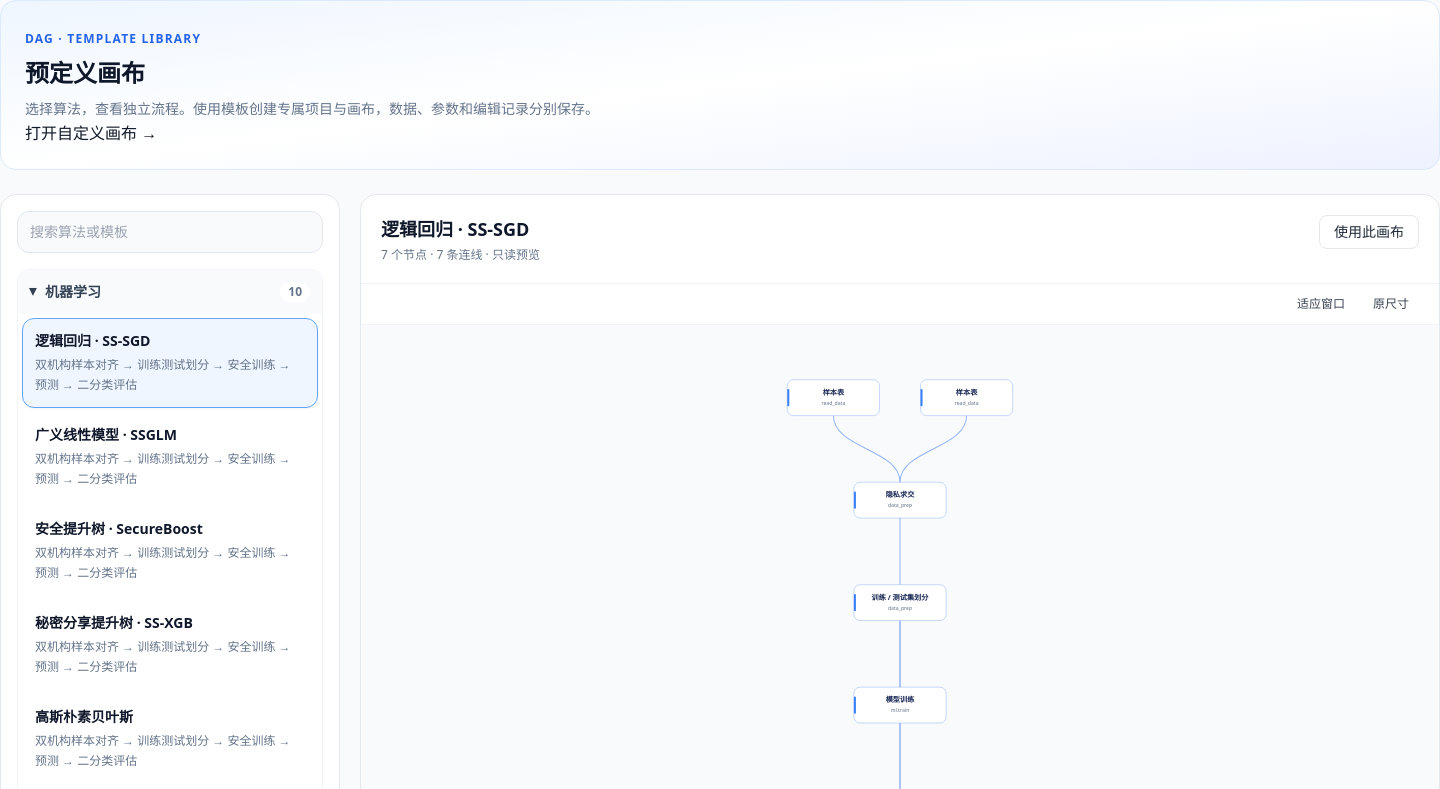
Test: search reveals matching collapsed categories and restores folding on clear
Click the button "▸ 机器学习 10" at point(73, 292), box [18,270,322,314]
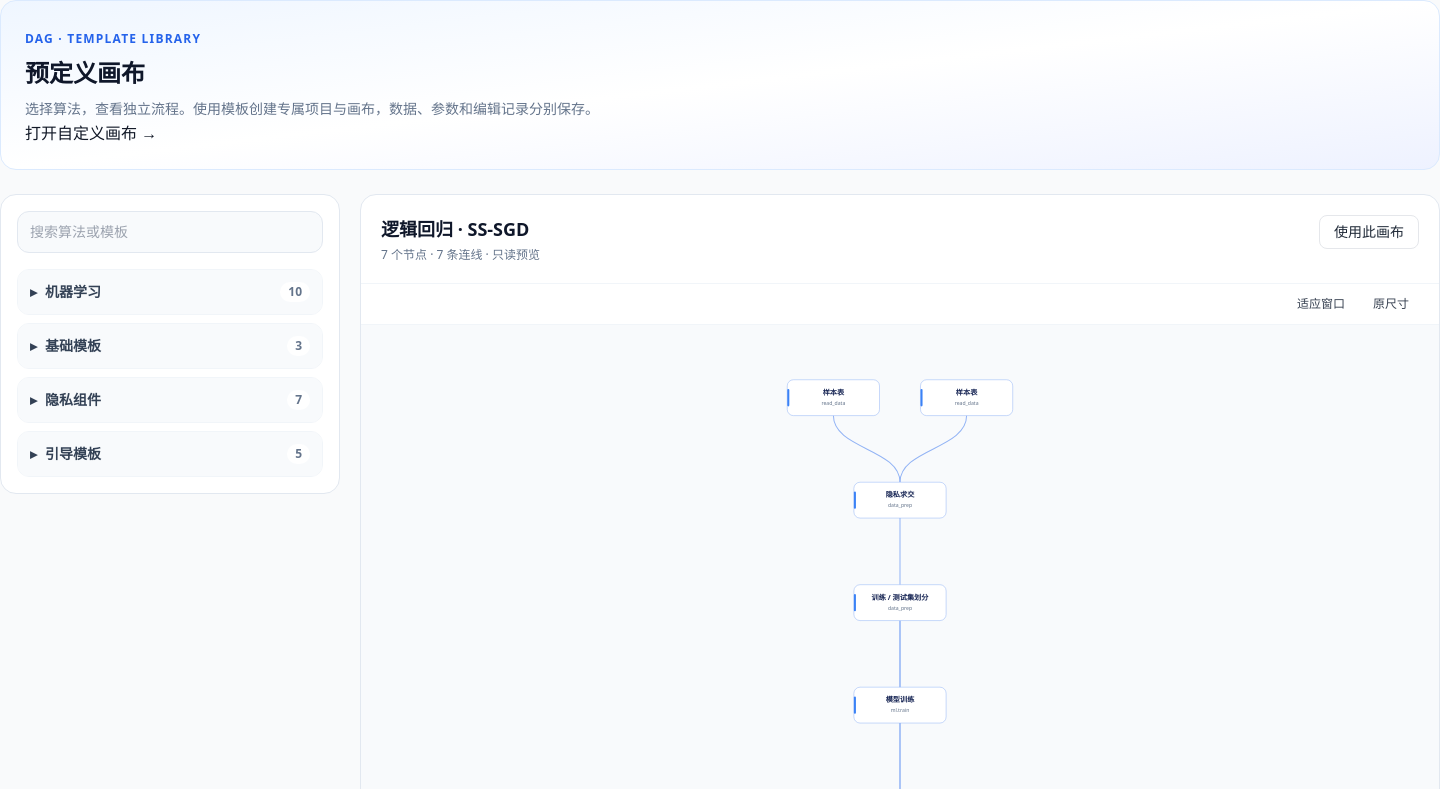
Type "KMeans" into the field labelled "搜索算法或模板" at point(170, 232), box [17,211,323,253]
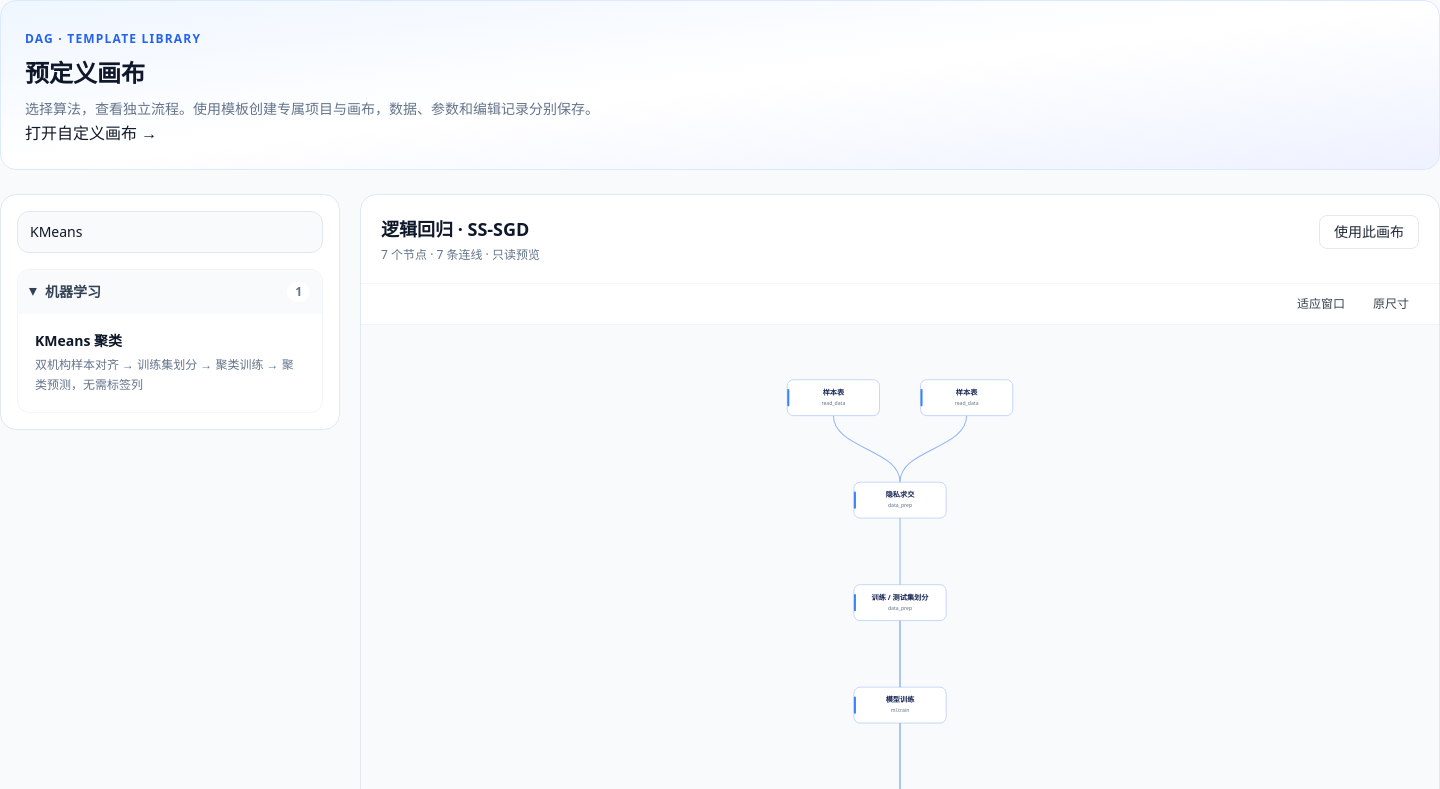
Expected: the button "KMeans 聚类 双机构样本对齐 → 训练集划分 → 聚类训练 → 聚类预测，无需标签列" is shown, [22,318,318,408]
Expected: the button "▸ 机器学习 1" is expanded, [18,270,322,314]
Expected: the button "隐私组件" is gone
Clear the field named "搜索算法或模板" at point(170, 232), box [17,211,323,253]
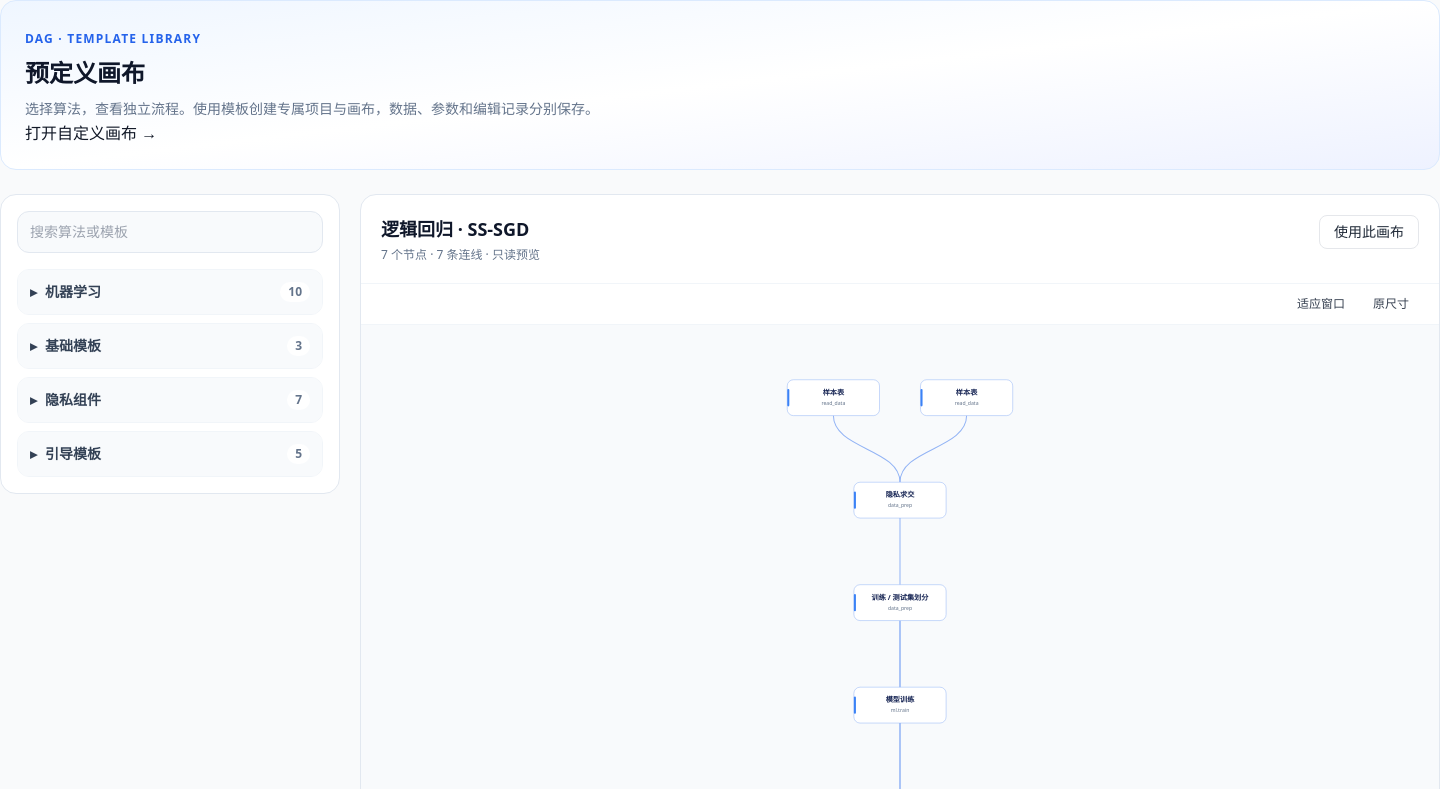
Expected: the button "▸ 机器学习 10" is collapsed, [18,270,322,314]
Expected: the button "KMeans" is gone
